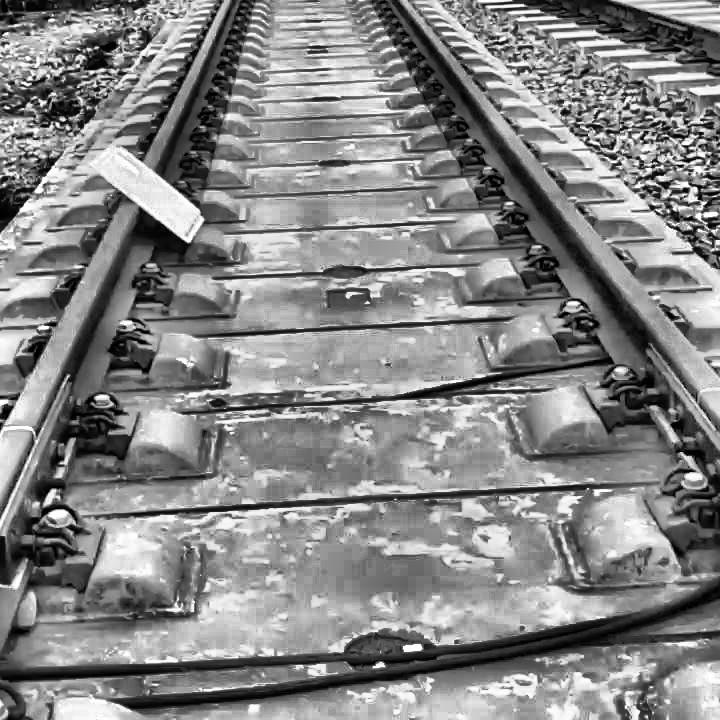Trash: (81, 136, 204, 253)
